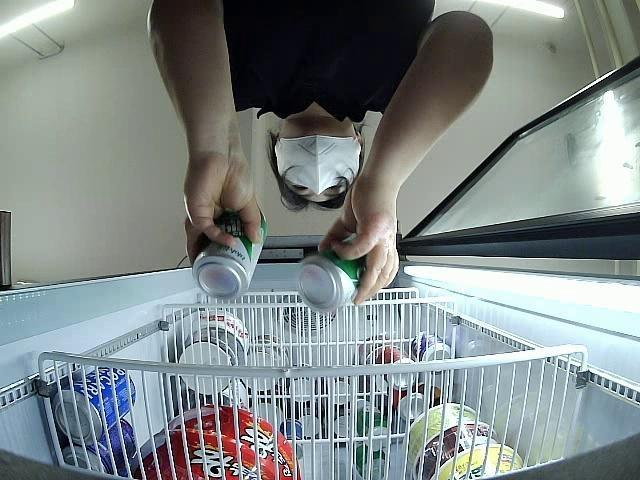12_chilsungCider: (192, 206, 268, 299), (297, 242, 368, 312)
